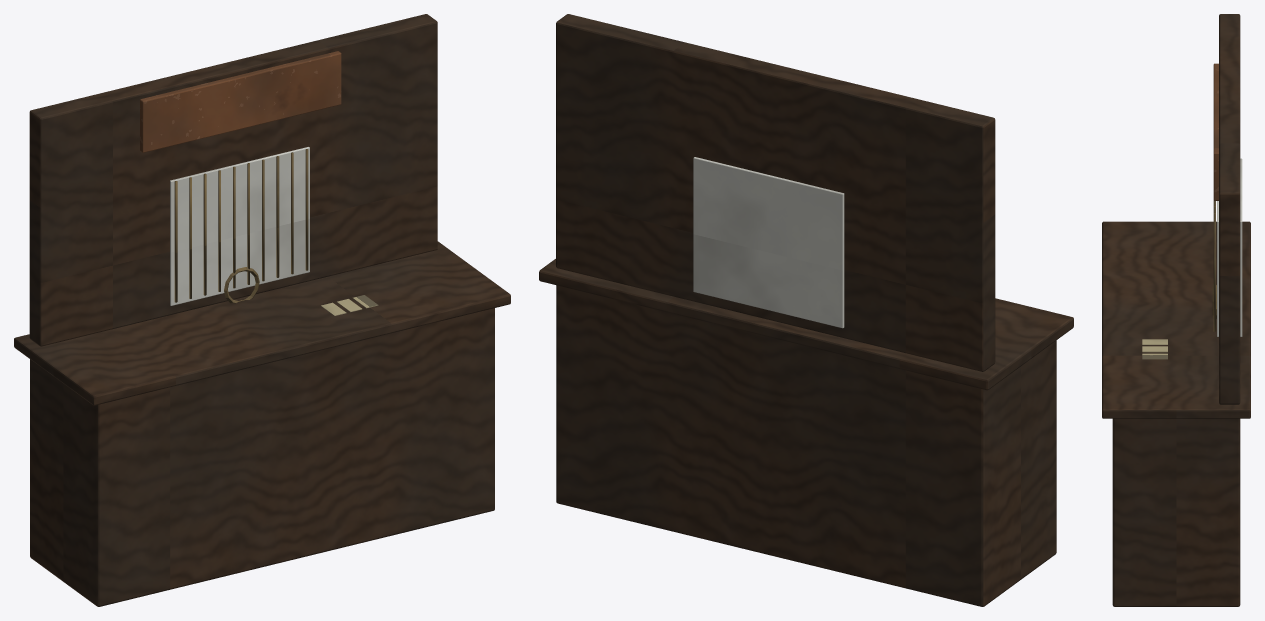
Rendered from Q07_ticket_counter.glb.
3 renders of one model, left to right at view 1: azimuth 30°, elevation 25°; view 2: azimuth 150°, elevation 25°; view 3: azimuth 270°, elevation 25°, orthographic. The views are drawn at different scales.
Visible parts, largest first — view 1: Q07_ticket_counter; view 2: Q07_ticket_counter; view 3: Q07_ticket_counter.
Boxes of the visible parts, x1,y1,x2,y2 form: Q07_ticket_counter: (14, 14, 510, 606); Q07_ticket_counter: (539, 14, 1073, 606); Q07_ticket_counter: (1102, 14, 1250, 606).
Bounding box in the file's own units: 1.95 × 2 × 0.6512.
Materials: 5 (5 with a texture image).
